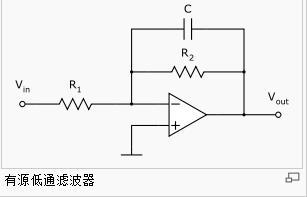amplifier: (165, 88, 210, 140)
cap1: (180, 15, 194, 43)
res2: (168, 64, 207, 80), (55, 97, 94, 112)
